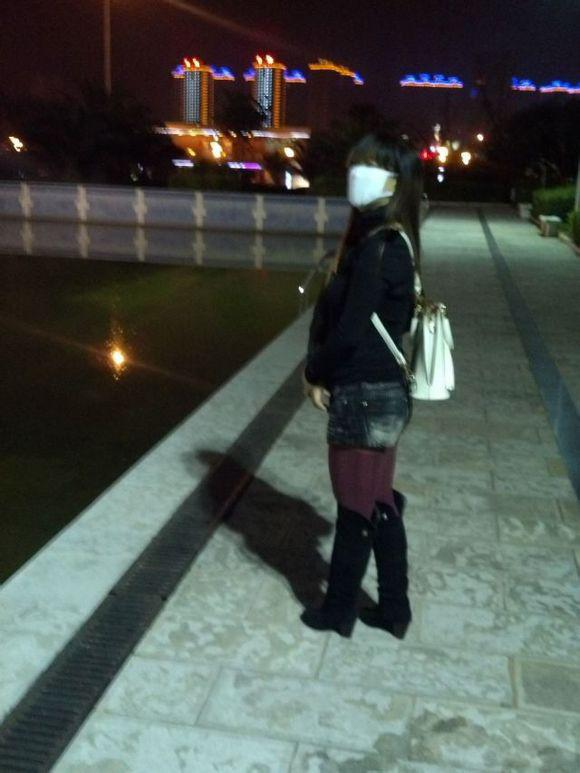OK: (345, 153, 402, 210)
